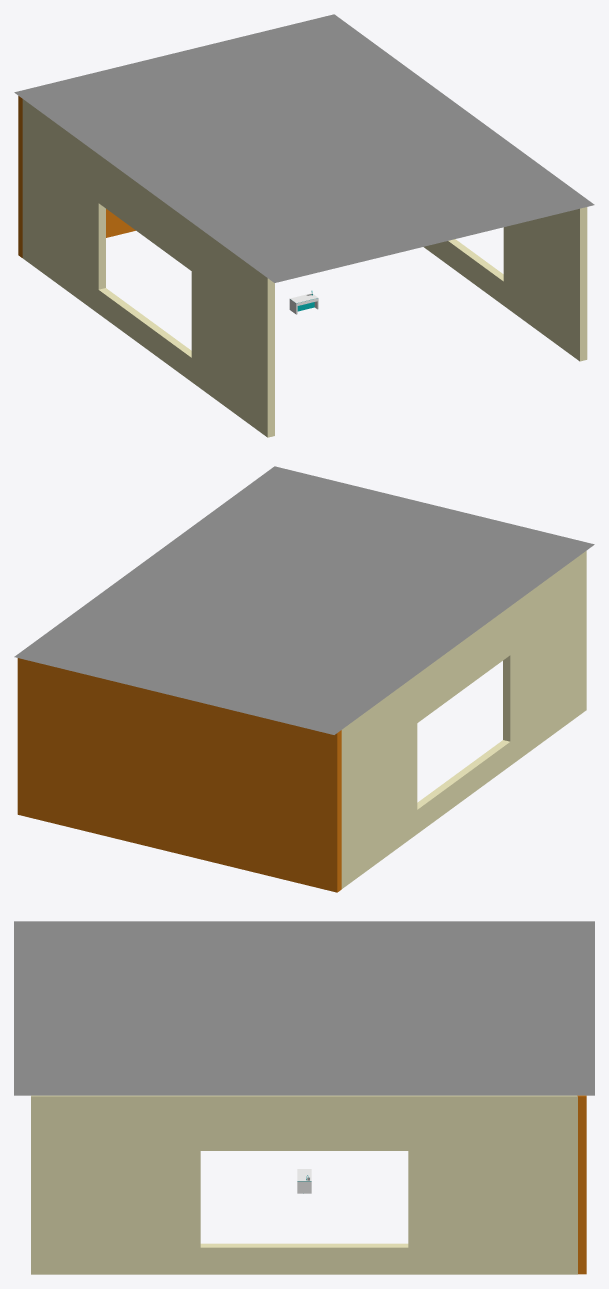
File: table2VR_Nov18.glb
3 renders of one model, top to bottom at view 1: azimuth 30°, elevation 25°; view 2: azimuth 150°, elevation 25°; view 3: azimuth 270°, elevation 25°, orthographic. The views are drawn at different scales.
Parts seen in each view (by area): view 1: Plane, LeftWall, RightWall, FrontWall; view 2: Plane, FrontWall, LeftWall; view 3: Plane, RightWall, FrontWall.
Part boxes in pixels (x1,y1,x2,y2): Plane: (14, 14, 594, 282); LeftWall: (22, 99, 274, 437); RightWall: (424, 207, 587, 361); FrontWall: (18, 96, 135, 257); Plane: (14, 466, 594, 734); FrontWall: (17, 658, 341, 892); LeftWall: (341, 551, 586, 888); Plane: (14, 921, 594, 1095); RightWall: (31, 1095, 577, 1274); FrontWall: (577, 1095, 586, 1274).
Bounding box in the file's own units: 21.81 × 10.47 × 30.73.
